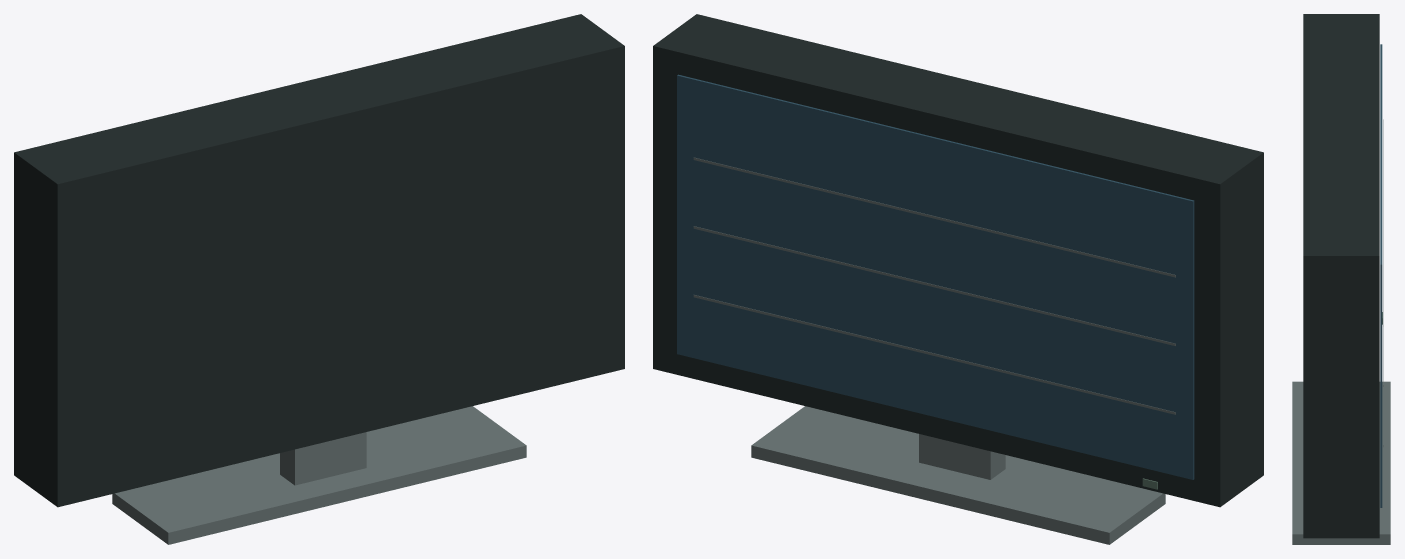
Rendered from LP_Security_DeskMonitor.fbx.
3 renders of one model, left to right at view 1: azimuth 30°, elevation 25°; view 2: azimuth 150°, elevation 25°; view 3: azimuth 270°, elevation 25°, orthographic. The views are drawn at different scales.
Visible parts, largest first — view 1: Charcoal, M_Museum_BrushedMetal; view 2: M_Museum_DeepBlue, Charcoal, M_Museum_BrushedMetal; view 3: Charcoal, M_Museum_BrushedMetal, M_Museum_DeepBlue.
Boxes of the visible parts, <box> form: Charcoal: <box>14,14,624,507</box>; M_Museum_BrushedMetal: <box>112,406,526,544</box>; M_Museum_DeepBlue: <box>677,74,1194,479</box>; Charcoal: <box>653,14,1263,507</box>; M_Museum_BrushedMetal: <box>693,157,1175,544</box>; Charcoal: <box>1303,14,1379,538</box>; M_Museum_BrushedMetal: <box>1292,119,1390,544</box>; M_Museum_DeepBlue: <box>1380,44,1382,507</box>.
Bounding box in the file's own units: 70 × 45 × 12.
